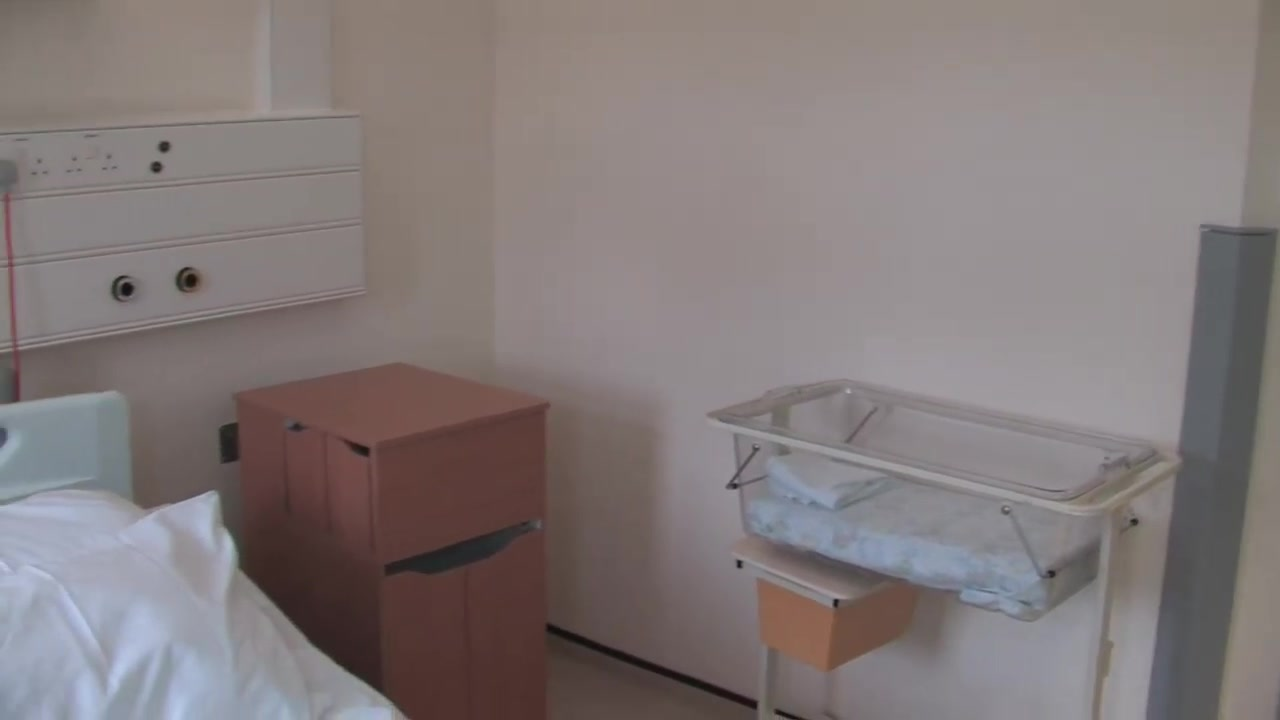bedside_table: (233, 360, 554, 720)
hospital_bed: (1, 389, 430, 720)
